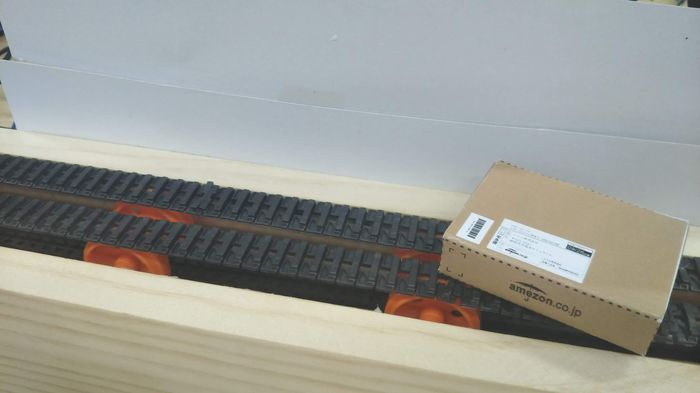box2: (437, 157, 689, 358)
